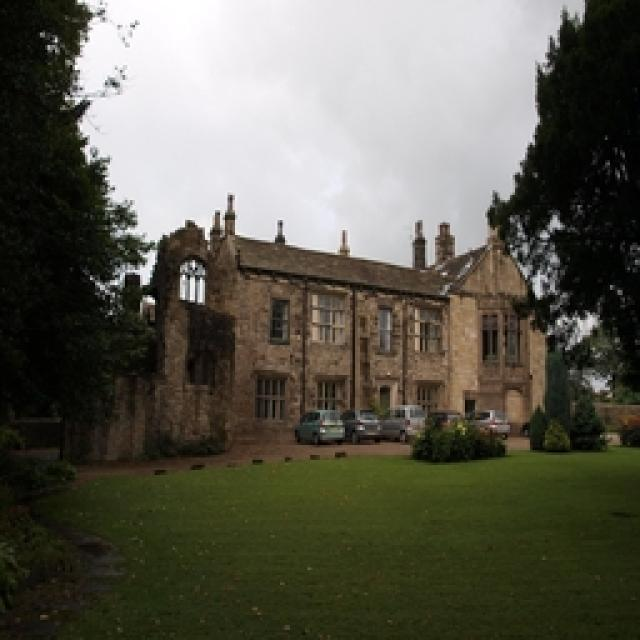Abbey: (1, 1, 639, 639), (81, 189, 556, 461)
